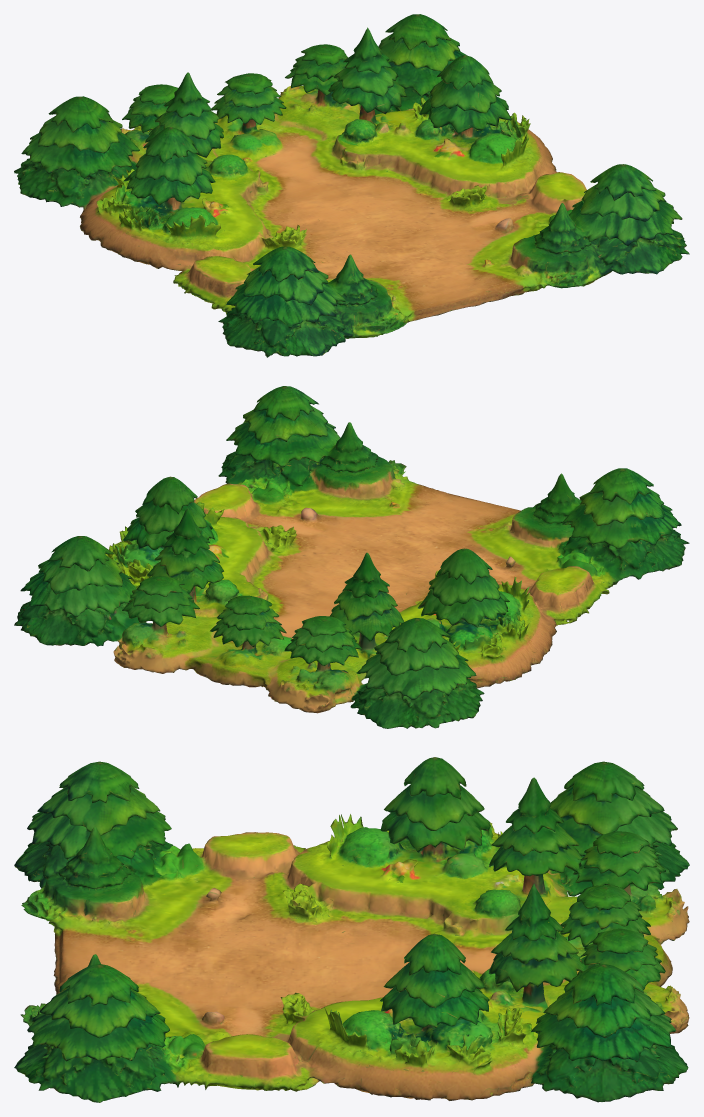
Rendered from route1.glb.
The picture shows the model from 3 angles, top to bottom: view 1: azimuth 30°, elevation 25°; view 2: azimuth 150°, elevation 25°; view 3: azimuth 270°, elevation 25°; orthographic projection. The views are drawn at different scales.
Parts seen in each view (by area): view 1: Mesh_0; view 2: Mesh_0; view 3: Mesh_0.
Boxes of the visible parts, x1,y1,x2,y2 form: Mesh_0: (14,14,689,357); Mesh_0: (14,386,689,728); Mesh_0: (14,757,689,1102).
Size of the model in its own units: 1.82 by 0.4638 by 1.91.
1 material, 1 textured.
